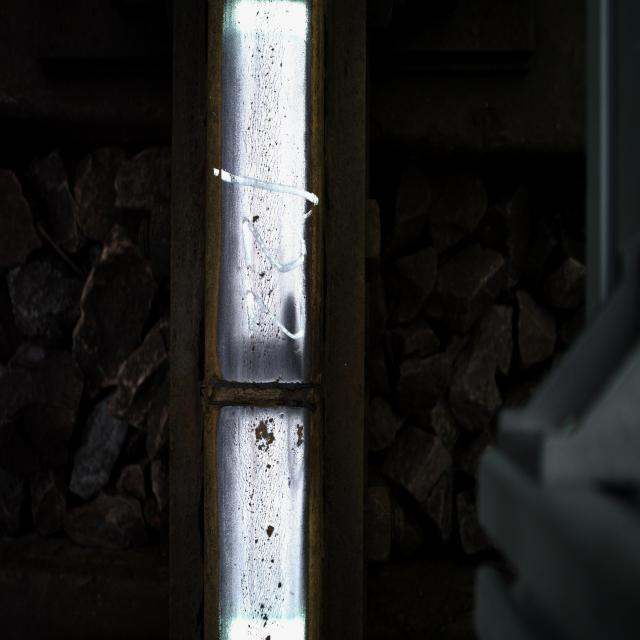spalling: (198, 343, 328, 472)
